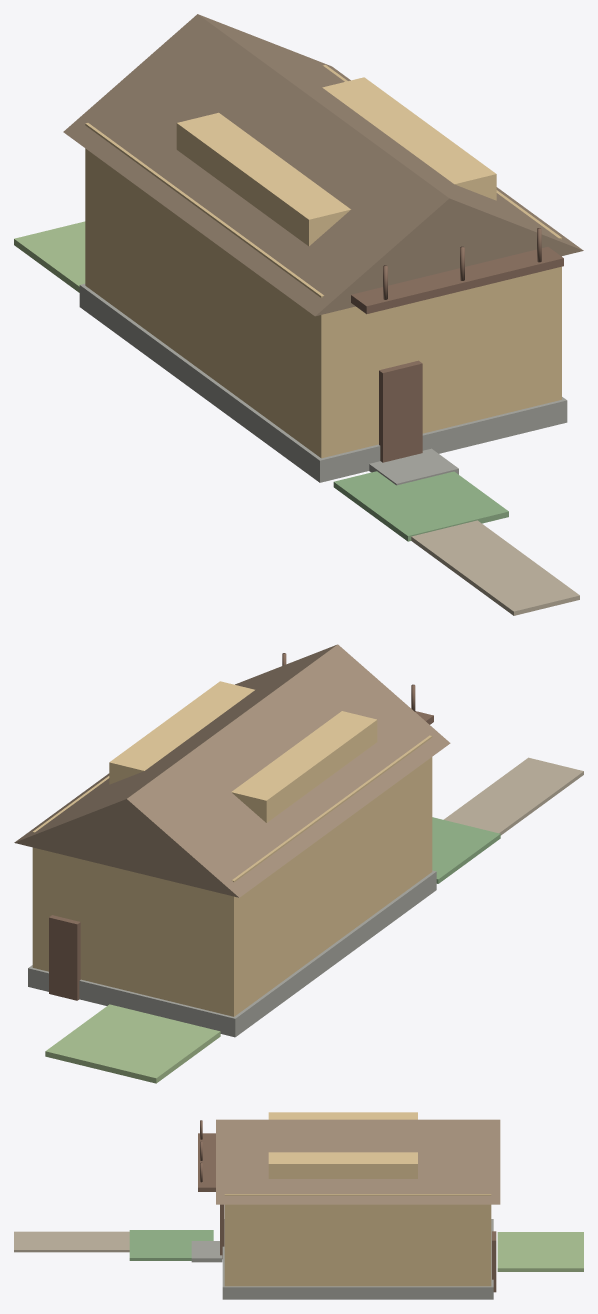
The picture shows the model from 3 angles, top to bottom: view 1: azimuth 30°, elevation 25°; view 2: azimuth 150°, elevation 25°; view 3: azimuth 270°, elevation 25°; orthographic projection. The views are drawn at different scales.
Parts seen in each view (by area): view 1: MainBody, MainRoof, UpperLoft, StonePlinth, Driveway, FrontGreenVerge, FrontBalcony, PublicDoor, RearYardPatch, PublicStep; view 2: MainBody, MainRoof, UpperLoft, RearYardPatch, StonePlinth, Driveway, FrontGreenVerge, ServiceDoor; view 3: MainBody, MainRoof, UpperLoft, StonePlinth, RearYardPatch, Driveway, FrontGreenVerge, FrontBalcony, PublicStep, ServiceDoor.
Part boxes in pixels (bbox=[...]): MainBody: bbox=[85, 64, 561, 458]; MainRoof: bbox=[63, 14, 583, 316]; UpperLoft: bbox=[176, 77, 496, 246]; StonePlinth: bbox=[79, 283, 567, 482]; Driveway: bbox=[411, 520, 579, 615]; FrontGreenVerge: bbox=[333, 471, 508, 541]; FrontBalcony: bbox=[351, 247, 563, 314]; PublicDoor: bbox=[379, 360, 422, 462]; RearYardPatch: bbox=[14, 221, 85, 292]; PublicStep: bbox=[369, 448, 458, 485]; MainBody: bbox=[32, 735, 432, 1016]; MainRoof: bbox=[14, 644, 450, 897]; UpperLoft: bbox=[109, 681, 377, 822]; RearYardPatch: bbox=[45, 1004, 220, 1083]; StonePlinth: bbox=[28, 870, 436, 1037]; Driveway: bbox=[444, 757, 583, 835]; FrontGreenVerge: bbox=[432, 817, 500, 883]; ServiceDoor: bbox=[49, 915, 80, 1000]; MainBody: bbox=[224, 1194, 491, 1286]; MainRoof: bbox=[216, 1119, 500, 1204]; UpperLoft: bbox=[268, 1112, 417, 1178]; StonePlinth: bbox=[222, 1219, 493, 1299]; RearYardPatch: bbox=[497, 1232, 583, 1271]; Driveway: bbox=[14, 1231, 129, 1252]; FrontGreenVerge: bbox=[129, 1230, 213, 1260]; FrontBalcony: bbox=[198, 1133, 215, 1191]; PublicStep: bbox=[191, 1241, 222, 1262]; ServiceDoor: bbox=[492, 1231, 496, 1292].
Size of the model in its own units: 7.1 by 6.52 by 23.09.
